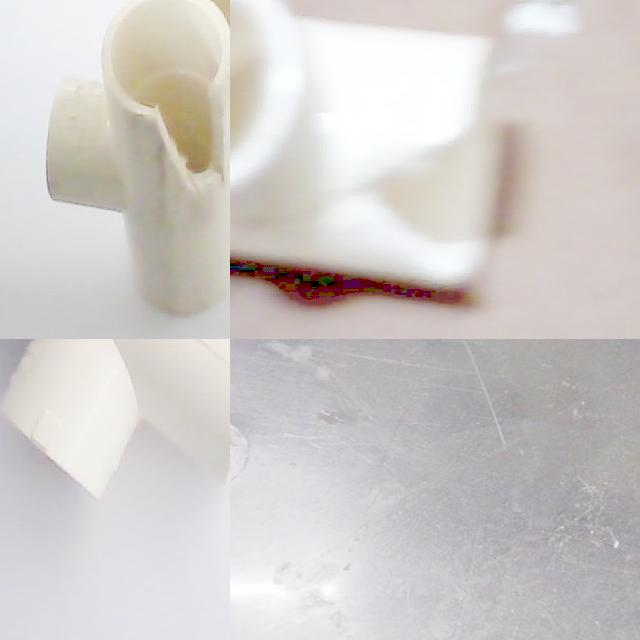Defective: (375, 124, 496, 244), (136, 72, 230, 178), (154, 91, 230, 201)
T Joint: (230, 0, 491, 296), (46, 0, 230, 321), (2, 339, 230, 499)
